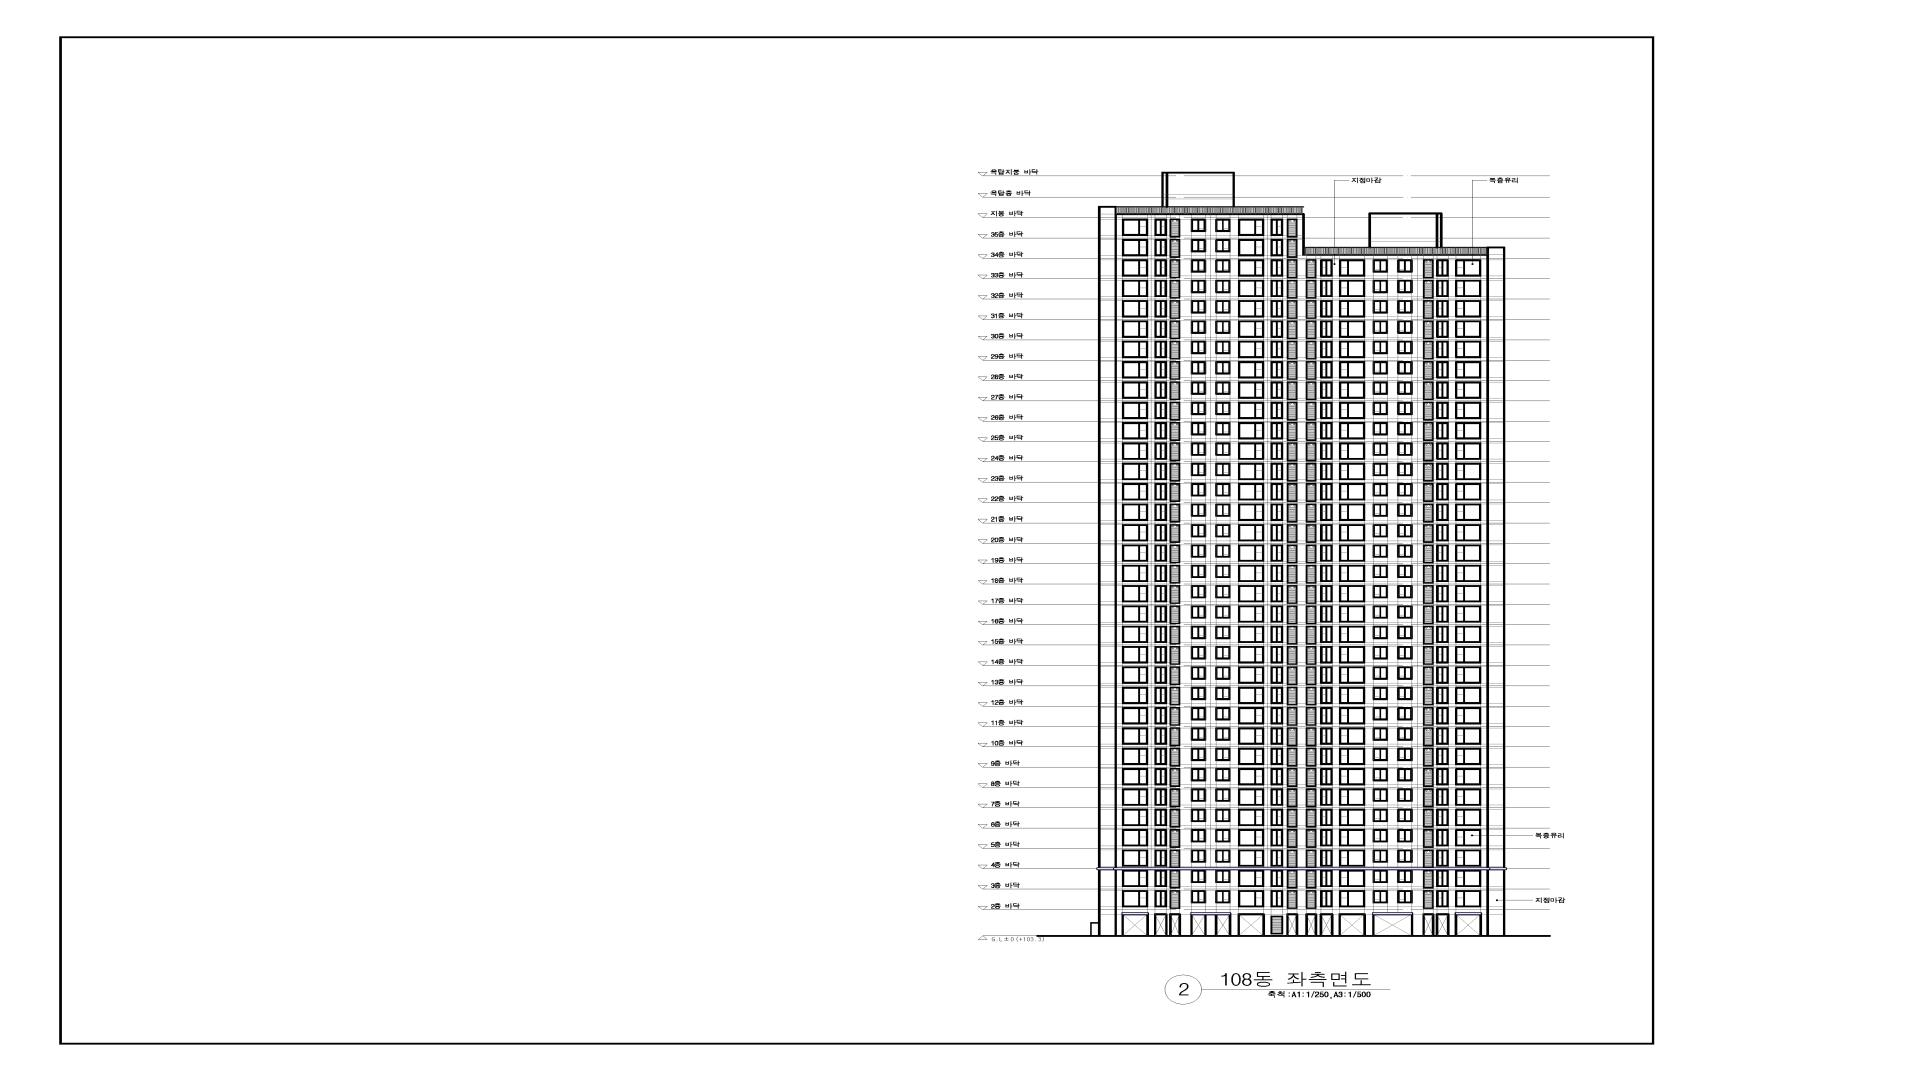door: (1373, 914, 1412, 936), (1338, 913, 1366, 935), (1455, 914, 1482, 936), (1122, 914, 1149, 936), (1238, 914, 1265, 935), (1191, 914, 1207, 936), (1215, 914, 1230, 936), (1154, 914, 1167, 936), (1320, 914, 1333, 936), (1436, 914, 1449, 936), (1170, 914, 1182, 936), (1305, 914, 1317, 936), (1423, 914, 1435, 936), (1287, 914, 1298, 936)
wall: (1098, 171, 1505, 936)
window: (1122, 707, 1149, 725), (1122, 666, 1149, 684), (1455, 625, 1481, 644), (1122, 524, 1149, 542), (1122, 381, 1149, 400), (1338, 767, 1365, 786), (1338, 707, 1365, 725), (1338, 666, 1365, 684), (1122, 890, 1149, 907), (1122, 870, 1149, 887), (1122, 849, 1149, 866), (1122, 829, 1149, 847), (1122, 789, 1149, 806), (1122, 769, 1149, 786), (1122, 748, 1149, 765), (1122, 728, 1149, 745), (1122, 687, 1149, 704), (1122, 646, 1149, 663), (1122, 625, 1149, 642), (1338, 605, 1365, 622), (1338, 585, 1365, 603), (1338, 564, 1365, 582), (1338, 545, 1365, 562), (1338, 463, 1365, 480), (1338, 442, 1365, 459), (1338, 422, 1365, 439), (1338, 381, 1365, 398), (1338, 361, 1365, 378), (1338, 342, 1365, 359), (1338, 320, 1365, 338), (1338, 260, 1365, 277), (1455, 808, 1481, 825), (1455, 789, 1481, 806), (1455, 769, 1481, 786), (1455, 748, 1481, 765), (1455, 728, 1481, 745), (1455, 707, 1481, 724), (1455, 687, 1481, 704), (1455, 666, 1481, 683), (1455, 646, 1481, 663), (1455, 605, 1481, 622), (1455, 585, 1481, 603), (1122, 605, 1149, 622), (1122, 585, 1149, 603), (1122, 564, 1149, 582), (1122, 545, 1149, 562), (1122, 504, 1149, 521), (1122, 484, 1149, 501), (1122, 463, 1149, 480), (1122, 443, 1149, 460), (1122, 422, 1149, 439), (1122, 402, 1149, 419), (1122, 361, 1149, 378), (1122, 340, 1149, 357), (1122, 320, 1149, 338), (1122, 301, 1149, 318), (1122, 280, 1149, 297), (1122, 260, 1149, 277), (1122, 239, 1149, 256), (1122, 219, 1149, 236), (1238, 870, 1265, 887), (1238, 849, 1265, 866), (1238, 829, 1265, 847), (1238, 808, 1265, 825), (1238, 789, 1265, 806), (1238, 767, 1265, 785), (1238, 748, 1265, 765), (1238, 728, 1265, 745), (1238, 707, 1265, 724), (1238, 687, 1265, 704), (1238, 667, 1265, 684), (1238, 646, 1265, 663), (1238, 625, 1265, 642), (1455, 564, 1481, 582), (1455, 545, 1481, 562), (1455, 504, 1481, 521), (1455, 483, 1481, 500), (1455, 463, 1481, 480), (1455, 442, 1481, 459), (1455, 422, 1481, 439), (1455, 402, 1481, 419), (1455, 382, 1481, 400), (1455, 361, 1481, 378), (1455, 342, 1481, 359), (1455, 301, 1481, 318), (1455, 260, 1481, 277), (1238, 605, 1265, 622), (1238, 545, 1265, 562), (1238, 524, 1265, 541), (1238, 504, 1265, 521), (1238, 463, 1265, 480), (1238, 443, 1265, 460), (1238, 422, 1265, 439), (1238, 402, 1265, 419), (1238, 381, 1265, 398), (1238, 361, 1265, 378), (1238, 342, 1265, 359), (1238, 320, 1265, 338), (1238, 301, 1265, 318), (1238, 280, 1265, 297), (1238, 260, 1265, 277), (1238, 239, 1265, 256), (1238, 219, 1265, 236), (1338, 890, 1365, 907), (1338, 849, 1365, 866), (1338, 829, 1365, 847), (1338, 808, 1365, 825), (1338, 789, 1365, 806), (1338, 728, 1365, 745), (1338, 687, 1365, 704), (1338, 626, 1365, 644), (1122, 808, 1147, 825), (1340, 525, 1365, 542), (1340, 504, 1365, 521), (1340, 484, 1365, 501), (1340, 402, 1365, 419), (1340, 301, 1365, 318), (1340, 280, 1365, 297), (1456, 890, 1481, 907), (1456, 870, 1481, 887), (1456, 849, 1481, 866), (1456, 829, 1481, 847), (1238, 890, 1263, 907), (1456, 525, 1481, 542), (1456, 320, 1481, 338), (1456, 280, 1481, 297), (1238, 585, 1263, 603), (1238, 564, 1263, 582), (1238, 483, 1263, 500), (1340, 870, 1365, 887), (1340, 748, 1365, 765), (1340, 646, 1365, 663), (1270, 915, 1283, 935), (1154, 483, 1167, 501), (1436, 524, 1449, 542), (1191, 869, 1207, 884), (1191, 524, 1207, 538), (1396, 869, 1412, 884), (1396, 767, 1412, 782), (1191, 483, 1207, 497), (1191, 442, 1207, 456), (1191, 280, 1207, 294), (1215, 869, 1230, 884), (1215, 767, 1230, 782), (1373, 524, 1389, 538), (1373, 483, 1389, 497), (1373, 442, 1389, 456), (1373, 340, 1389, 355), (1396, 442, 1412, 456), (1154, 525, 1167, 542), (1154, 504, 1167, 521), (1154, 463, 1167, 480), (1154, 402, 1167, 419), (1154, 361, 1167, 378), (1154, 340, 1167, 357), (1154, 320, 1167, 338), (1154, 301, 1167, 318), (1154, 280, 1167, 297), (1154, 260, 1167, 277), (1154, 239, 1167, 256), (1154, 219, 1167, 236), (1270, 564, 1283, 582), (1270, 545, 1283, 562), (1270, 525, 1283, 542), (1270, 504, 1283, 521), (1270, 483, 1283, 500), (1270, 463, 1283, 480), (1270, 443, 1283, 460), (1270, 422, 1283, 439), (1270, 402, 1283, 419), (1270, 361, 1283, 378), (1270, 320, 1283, 338), (1270, 301, 1283, 318), (1270, 260, 1283, 277), (1270, 239, 1283, 256), (1270, 219, 1283, 236), (1320, 870, 1333, 887), (1320, 849, 1333, 866), (1320, 829, 1333, 847), (1320, 808, 1333, 825), (1320, 789, 1333, 806), (1320, 769, 1333, 786), (1320, 748, 1333, 765), (1320, 728, 1333, 745), (1320, 687, 1333, 704), (1320, 625, 1333, 642), (1320, 605, 1333, 622), (1436, 504, 1449, 521), (1436, 483, 1449, 500), (1436, 463, 1449, 480), (1436, 443, 1449, 460), (1436, 422, 1449, 439), (1436, 402, 1449, 419), (1436, 381, 1449, 398), (1436, 361, 1449, 378), (1436, 342, 1449, 359), (1436, 320, 1449, 338), (1436, 301, 1449, 318), (1436, 280, 1449, 297), (1436, 260, 1449, 277), (1154, 870, 1167, 887), (1154, 849, 1167, 866), (1154, 829, 1167, 847), (1154, 789, 1167, 806), (1154, 767, 1167, 785), (1154, 748, 1167, 765), (1154, 728, 1167, 745), (1154, 707, 1167, 724), (1154, 687, 1167, 704), (1154, 646, 1167, 663), (1154, 625, 1167, 642), (1154, 585, 1167, 603), (1154, 564, 1167, 582), (1154, 545, 1167, 562), (1270, 829, 1283, 847), (1270, 808, 1283, 825), (1270, 789, 1283, 806), (1270, 769, 1283, 786), (1270, 728, 1283, 745), (1270, 666, 1283, 683), (1270, 646, 1283, 663), (1270, 626, 1283, 644), (1270, 585, 1283, 603), (1320, 564, 1333, 582), (1320, 545, 1333, 562), (1320, 524, 1333, 541), (1320, 483, 1333, 500), (1320, 443, 1333, 460), (1320, 422, 1333, 439), (1320, 402, 1333, 419), (1320, 382, 1333, 400), (1320, 361, 1333, 378), (1320, 340, 1333, 357), (1320, 320, 1333, 338), (1320, 301, 1333, 318), (1436, 849, 1449, 866), (1436, 829, 1449, 847), (1436, 808, 1449, 825), (1436, 789, 1449, 806), (1436, 748, 1449, 765), (1436, 728, 1449, 745), (1436, 687, 1449, 704), (1436, 646, 1449, 663), (1436, 625, 1449, 642), (1436, 585, 1449, 603), (1436, 564, 1449, 582), (1436, 545, 1449, 562), (1271, 381, 1283, 400), (1436, 767, 1448, 786), (1216, 625, 1230, 640), (1216, 524, 1230, 538), (1191, 890, 1207, 903), (1191, 849, 1207, 862), (1191, 829, 1207, 843), (1191, 808, 1207, 822), (1191, 789, 1207, 802), (1191, 769, 1207, 782), (1191, 748, 1207, 761), (1191, 728, 1207, 741), (1191, 707, 1207, 720), (1191, 687, 1207, 700), (1191, 666, 1207, 679), (1191, 646, 1207, 659), (1191, 626, 1207, 640), (1191, 605, 1207, 618), (1191, 585, 1207, 599), (1191, 564, 1207, 578), (1191, 545, 1207, 558), (1191, 504, 1207, 517), (1170, 666, 1180, 686), (1170, 625, 1180, 645), (1170, 564, 1180, 584), (1170, 483, 1180, 502), (1170, 442, 1180, 462), (1170, 239, 1180, 258), (1287, 869, 1298, 889), (1287, 808, 1298, 828), (1396, 849, 1412, 862), (1396, 808, 1412, 822), (1396, 789, 1412, 802), (1396, 748, 1412, 761), (1396, 728, 1412, 741), (1396, 707, 1412, 720), (1396, 687, 1412, 700), (1396, 666, 1412, 679), (1396, 646, 1412, 659), (1396, 605, 1412, 618), (1396, 585, 1412, 599), (1396, 504, 1412, 517), (1396, 484, 1412, 497), (1191, 463, 1207, 476), (1191, 422, 1207, 435), (1191, 402, 1207, 415), (1191, 381, 1207, 394), (1191, 361, 1207, 375), (1191, 342, 1207, 355), (1191, 320, 1207, 334), (1191, 301, 1207, 314), (1191, 260, 1207, 273), (1191, 239, 1207, 252), (1191, 219, 1207, 232), (1215, 890, 1230, 903), (1215, 849, 1230, 862), (1215, 829, 1230, 843), (1215, 808, 1230, 822), (1215, 789, 1230, 802), (1215, 748, 1230, 761), (1215, 728, 1230, 741), (1215, 646, 1230, 659), (1215, 564, 1230, 578), (1215, 545, 1230, 558), (1215, 483, 1230, 496), (1215, 463, 1230, 476), (1215, 422, 1230, 435), (1215, 402, 1230, 415), (1215, 381, 1230, 394), (1215, 320, 1230, 334), (1215, 260, 1230, 273), (1215, 239, 1230, 252), (1215, 219, 1230, 232), (1373, 890, 1389, 903), (1305, 625, 1316, 645), (1305, 483, 1316, 502), (1305, 442, 1316, 462), (1305, 340, 1316, 360), (1423, 808, 1433, 828), (1423, 767, 1433, 787), (1423, 666, 1433, 686), (1423, 625, 1433, 645), (1423, 524, 1433, 543), (1423, 483, 1433, 502), (1423, 340, 1433, 360), (1287, 666, 1298, 686), (1287, 625, 1298, 645), (1287, 564, 1298, 584), (1287, 483, 1298, 502), (1287, 442, 1298, 462), (1287, 340, 1298, 360), (1287, 239, 1298, 258), (1305, 869, 1316, 889), (1373, 870, 1389, 884), (1373, 849, 1389, 862), (1373, 829, 1389, 843), (1373, 808, 1389, 822), (1373, 789, 1389, 802), (1373, 767, 1389, 781), (1373, 748, 1389, 761), (1373, 728, 1389, 741), (1373, 707, 1389, 720), (1373, 687, 1389, 700), (1373, 666, 1389, 679), (1373, 646, 1389, 659), (1373, 626, 1389, 640), (1373, 605, 1389, 618), (1373, 585, 1389, 599), (1373, 564, 1389, 578), (1373, 545, 1389, 558), (1373, 504, 1389, 517), (1373, 463, 1389, 476), (1373, 422, 1389, 435), (1373, 402, 1389, 415), (1373, 381, 1389, 394), (1373, 361, 1389, 375), (1373, 320, 1389, 334), (1373, 301, 1389, 314), (1373, 280, 1389, 293), (1373, 260, 1389, 273), (1396, 890, 1412, 903), (1396, 463, 1412, 476), (1396, 422, 1412, 435), (1396, 402, 1412, 415), (1396, 381, 1412, 394), (1396, 361, 1412, 375), (1396, 301, 1412, 314), (1170, 869, 1180, 889), (1170, 808, 1180, 828), (1155, 442, 1167, 459), (1155, 422, 1167, 439), (1155, 381, 1167, 398), (1271, 890, 1283, 907), (1271, 870, 1283, 887), (1271, 342, 1283, 359), (1271, 280, 1283, 297), (1320, 890, 1332, 907), (1320, 707, 1332, 724), (1320, 666, 1332, 683), (1320, 646, 1332, 663), (1320, 585, 1332, 603), (1155, 890, 1167, 907), (1155, 808, 1167, 825), (1155, 666, 1167, 683), (1155, 605, 1167, 622), (1271, 849, 1283, 866), (1271, 748, 1283, 765), (1271, 707, 1283, 724), (1271, 687, 1283, 704), (1271, 605, 1283, 622), (1320, 504, 1332, 521), (1320, 463, 1332, 480), (1320, 280, 1332, 297), (1320, 260, 1332, 277), (1436, 890, 1448, 907), (1436, 870, 1448, 887), (1436, 707, 1448, 724), (1436, 667, 1448, 684), (1436, 605, 1448, 622), (1170, 707, 1180, 725), (1170, 687, 1180, 705), (1170, 646, 1180, 665), (1170, 605, 1180, 624), (1170, 585, 1180, 604), (1170, 545, 1180, 563), (1170, 525, 1180, 543), (1170, 504, 1180, 522), (1170, 463, 1180, 481), (1170, 422, 1180, 440), (1170, 402, 1180, 421), (1170, 381, 1180, 400), (1170, 361, 1180, 380), (1170, 340, 1180, 359), (1170, 320, 1180, 339), (1170, 301, 1180, 319), (1170, 280, 1180, 298), (1170, 260, 1180, 278), (1170, 219, 1180, 237), (1287, 890, 1298, 909), (1287, 849, 1298, 868), (1287, 829, 1298, 848), (1287, 789, 1298, 807), (1287, 769, 1298, 787), (1287, 748, 1298, 766), (1287, 728, 1298, 746), (1305, 748, 1316, 766), (1305, 728, 1316, 746), (1305, 707, 1316, 725), (1305, 687, 1316, 705), (1305, 666, 1316, 684), (1305, 646, 1316, 665), (1305, 605, 1316, 624), (1305, 585, 1316, 604), (1305, 564, 1316, 583), (1305, 545, 1316, 563), (1305, 525, 1316, 543), (1305, 504, 1316, 522), (1305, 463, 1316, 481), (1305, 422, 1316, 440), (1305, 402, 1316, 421), (1305, 381, 1316, 400), (1305, 361, 1316, 380), (1305, 320, 1316, 339), (1305, 301, 1316, 319), (1305, 280, 1316, 298), (1305, 260, 1316, 278), (1423, 890, 1433, 909), (1423, 870, 1433, 889), (1423, 849, 1433, 868), (1423, 829, 1433, 848), (1423, 789, 1433, 807), (1423, 748, 1433, 766), (1423, 728, 1433, 746), (1423, 707, 1433, 725), (1423, 687, 1433, 705), (1423, 646, 1433, 665), (1423, 605, 1433, 624), (1423, 585, 1433, 604), (1423, 564, 1433, 583), (1423, 545, 1433, 563), (1423, 504, 1433, 522), (1423, 463, 1433, 481), (1423, 443, 1433, 462), (1423, 422, 1433, 440), (1423, 402, 1433, 421), (1423, 381, 1433, 400), (1423, 361, 1433, 380), (1423, 320, 1433, 339), (1423, 301, 1433, 319), (1423, 280, 1433, 298), (1423, 260, 1433, 278), (1287, 707, 1298, 725), (1287, 687, 1298, 705), (1287, 646, 1298, 665), (1287, 605, 1298, 624), (1287, 585, 1298, 604), (1287, 545, 1298, 563), (1287, 525, 1298, 543), (1287, 504, 1298, 522), (1287, 463, 1298, 481), (1287, 422, 1298, 440), (1287, 402, 1298, 421), (1287, 381, 1298, 400), (1287, 361, 1298, 380), (1287, 320, 1298, 339), (1287, 301, 1298, 319), (1287, 280, 1298, 298), (1287, 260, 1298, 278), (1287, 219, 1298, 237), (1305, 890, 1316, 909), (1305, 849, 1316, 868), (1305, 829, 1316, 848), (1305, 808, 1316, 827), (1305, 789, 1316, 807), (1305, 769, 1316, 787), (1170, 890, 1180, 909), (1170, 849, 1180, 868), (1170, 829, 1180, 848), (1170, 789, 1180, 807), (1170, 769, 1180, 787), (1170, 748, 1180, 766), (1170, 728, 1180, 746), (1398, 829, 1412, 843), (1398, 626, 1412, 640), (1398, 564, 1412, 578), (1398, 545, 1412, 558), (1398, 525, 1412, 538), (1216, 707, 1230, 720), (1216, 687, 1230, 700), (1216, 666, 1230, 679), (1216, 605, 1230, 618), (1216, 585, 1230, 599), (1216, 504, 1230, 517), (1216, 443, 1230, 456), (1216, 361, 1230, 375), (1216, 342, 1230, 355), (1216, 301, 1230, 314), (1216, 280, 1230, 293), (1398, 340, 1412, 353), (1398, 320, 1412, 334), (1398, 280, 1412, 293), (1398, 260, 1412, 273)
